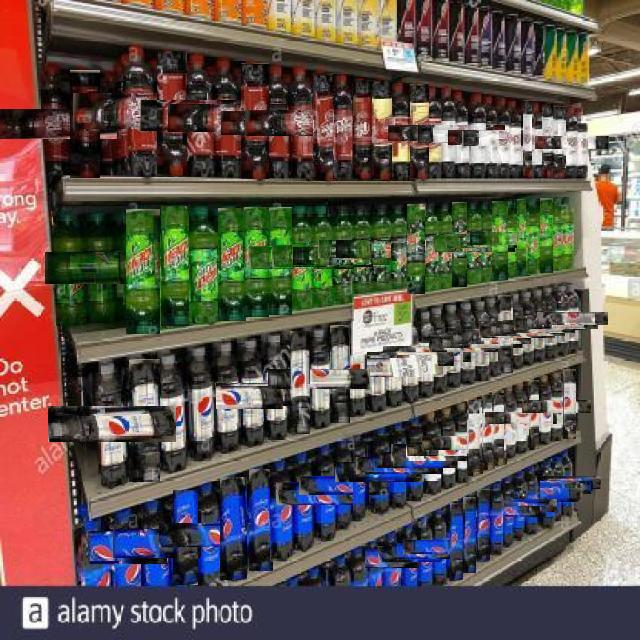Drinks: (73, 92, 208, 129), (48, 405, 176, 442), (125, 208, 160, 334), (128, 358, 160, 482), (156, 50, 187, 176), (160, 205, 192, 326), (158, 353, 189, 474), (189, 205, 220, 326), (139, 101, 263, 131), (53, 211, 85, 326), (0, 108, 117, 139), (44, 253, 159, 284), (240, 62, 269, 179), (69, 69, 100, 178), (217, 207, 246, 321), (168, 104, 286, 132), (245, 109, 360, 136), (189, 348, 216, 460), (243, 206, 269, 317), (312, 72, 338, 181), (220, 476, 247, 580), (222, 111, 336, 135), (173, 385, 283, 409), (268, 206, 292, 315), (198, 382, 306, 406), (112, 529, 201, 558), (265, 334, 289, 441), (87, 532, 167, 564), (160, 522, 262, 547), (249, 468, 273, 571), (270, 459, 294, 562), (172, 490, 198, 585), (248, 246, 354, 269), (292, 450, 315, 553), (289, 330, 310, 434), (276, 483, 374, 505), (372, 79, 393, 180), (272, 246, 373, 267), (269, 368, 370, 389), (333, 75, 353, 179), (329, 325, 350, 423), (352, 79, 372, 179), (409, 84, 429, 179), (335, 461, 424, 482), (392, 81, 410, 182), (294, 247, 394, 265), (349, 321, 367, 418), (407, 203, 425, 294), (299, 476, 389, 494), (318, 240, 408, 258), (337, 240, 427, 258), (331, 358, 421, 376), (468, 93, 486, 179), (351, 356, 437, 374), (440, 87, 457, 178), (445, 305, 463, 389), (417, 126, 505, 143), (384, 345, 471, 362), (356, 457, 443, 474), (391, 203, 408, 290), (388, 125, 480, 141), (431, 307, 448, 393), (432, 235, 515, 252), (428, 335, 509, 352), (390, 445, 475, 461), (491, 200, 508, 280), (374, 452, 458, 468), (439, 201, 454, 290), (466, 398, 483, 476), (354, 435, 369, 522), (367, 351, 454, 366), (452, 201, 467, 287), (426, 203, 440, 292), (407, 441, 490, 456), (448, 130, 531, 145), (442, 333, 523, 348), (462, 131, 543, 146), (423, 435, 502, 450), (498, 295, 513, 373), (454, 329, 531, 344), (492, 389, 507, 466), (490, 321, 565, 336), (541, 103, 556, 178), (507, 99, 521, 179), (522, 99, 536, 179), (470, 231, 549, 245), (449, 502, 463, 580), (516, 198, 530, 276), (478, 324, 555, 338), (481, 393, 495, 470), (402, 540, 479, 554), (462, 496, 476, 573), (532, 103, 546, 180), (526, 198, 540, 275), (511, 487, 582, 502), (527, 314, 598, 329), (445, 235, 526, 248), (539, 198, 553, 273), (364, 549, 419, 568), (550, 198, 564, 272), (561, 197, 575, 271), (490, 482, 504, 556), (476, 488, 490, 562), (552, 105, 566, 179), (535, 135, 609, 149), (391, 544, 460, 559), (378, 546, 442, 562), (503, 319, 575, 333), (514, 316, 586, 330), (574, 106, 588, 178), (486, 498, 557, 512), (539, 375, 553, 446), (562, 368, 576, 439), (526, 467, 540, 534), (538, 312, 608, 325), (522, 400, 591, 413), (534, 476, 601, 489), (526, 481, 593, 494), (504, 386, 516, 458), (485, 412, 557, 424), (475, 506, 546, 517), (528, 379, 539, 450)
